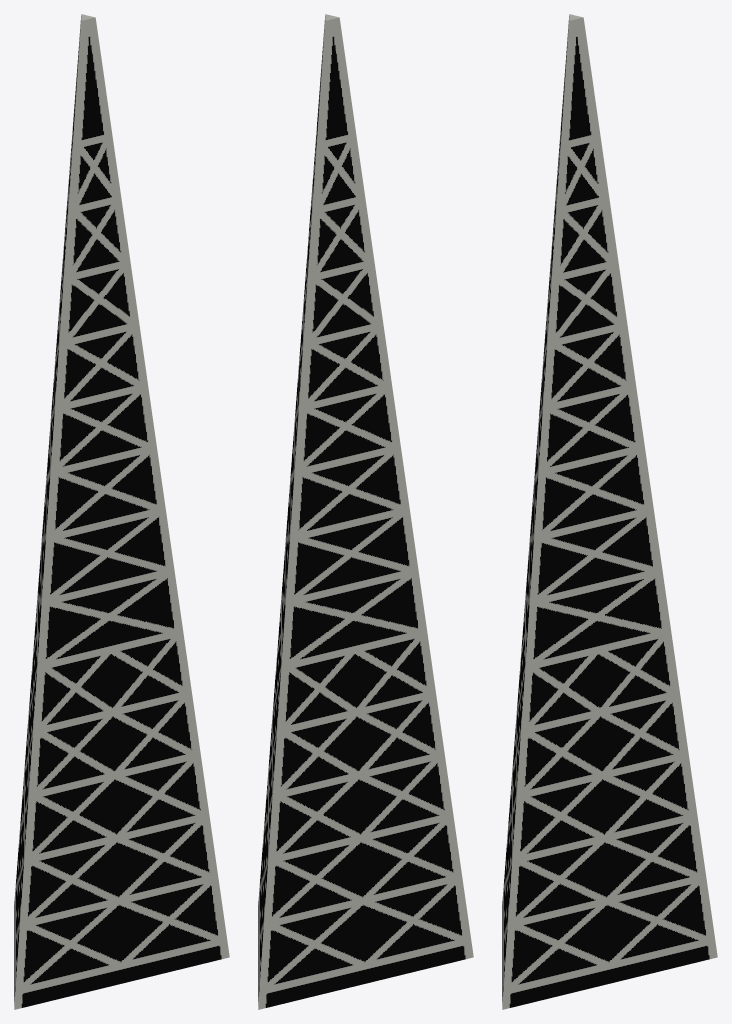
The model's file is ndb-tower-25m-cbj.gltf.
3 views of the same model, side by side, from view 1: azimuth 30°, elevation 25°; view 2: azimuth 150°, elevation 25°; view 3: azimuth 270°, elevation 25° (orthographic).
Parts seen in each view (by area): view 1: post; view 2: post; view 3: post.
Part boxes in pixels (x1,y1,x2,y2): post: [14, 14, 229, 1009]; post: [258, 14, 473, 1009]; post: [502, 14, 717, 1009].
Bounding box in the file's own units: 6 × 25 × 5.2.
